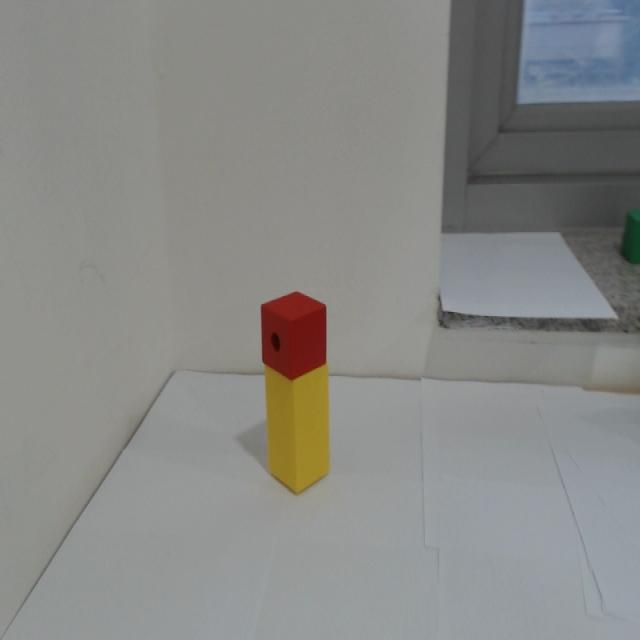cube: (260, 289, 329, 382)
